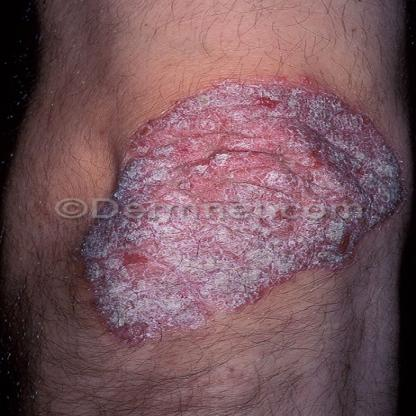Psoriasis: (71, 83, 416, 346)
